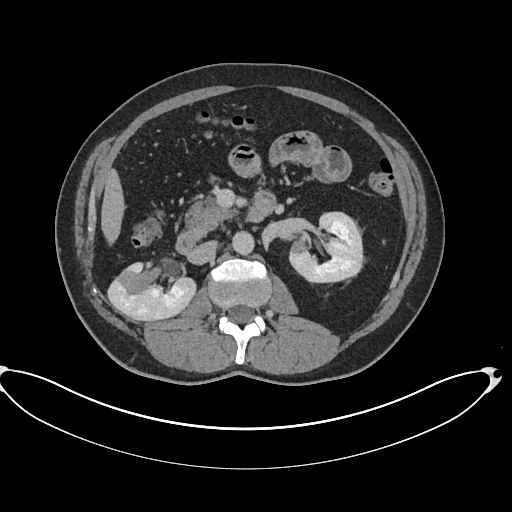Lesion: (116, 269, 160, 293)
